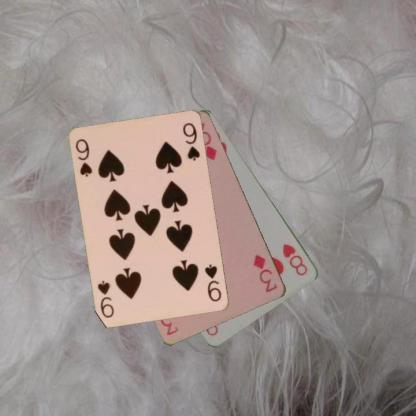3d: (251, 251, 279, 294)
8h: (280, 241, 309, 277)
9s: (73, 136, 94, 178), (202, 262, 223, 303)
